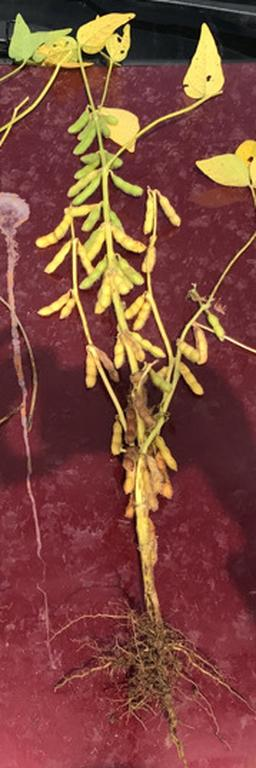pod: (35, 209, 71, 247), (44, 244, 71, 275), (181, 365, 208, 395), (114, 230, 149, 253), (110, 175, 144, 196), (161, 198, 184, 228), (207, 313, 227, 344), (194, 328, 209, 368), (82, 207, 103, 231), (134, 302, 151, 330), (144, 194, 153, 237), (86, 351, 95, 391), (61, 298, 76, 321)
soy: (30, 26, 223, 723)
